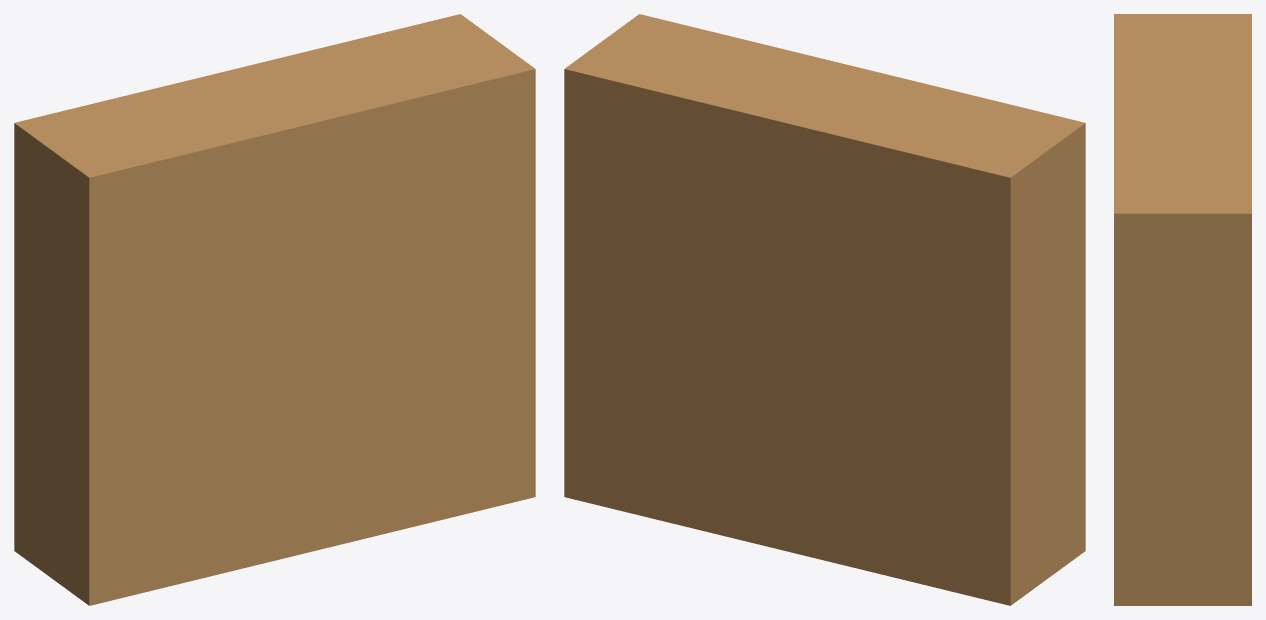
File: grand_bookshelf.glb
3 views of the same model, side by side, from view 1: azimuth 30°, elevation 25°; view 2: azimuth 150°, elevation 25°; view 3: azimuth 270°, elevation 25° (orthographic). The views are drawn at different scales.
Visible parts, largest first — view 1: grand_bookshelf; view 2: grand_bookshelf; view 3: grand_bookshelf.
Boxes of the visible parts, x1,y1,x2,y2 form: grand_bookshelf: (14, 14, 535, 605); grand_bookshelf: (564, 14, 1085, 605); grand_bookshelf: (1114, 14, 1251, 605).
Size of the model in its own units: 48 by 44 by 14.
